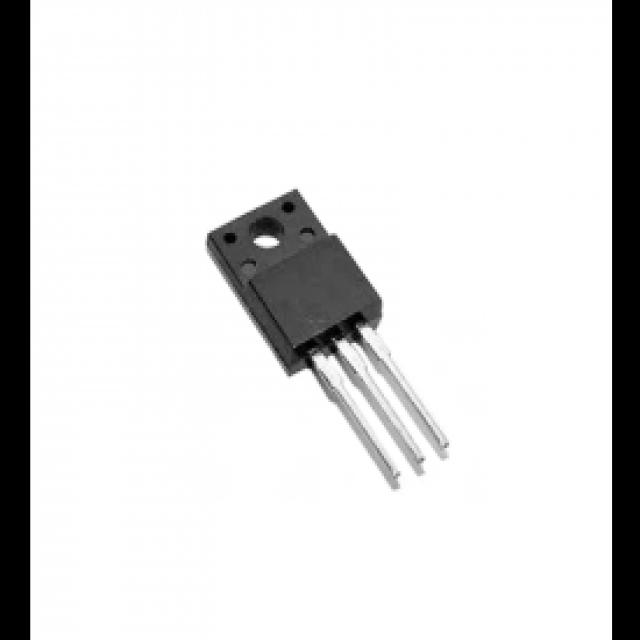Transistor: (204, 189, 451, 493)
